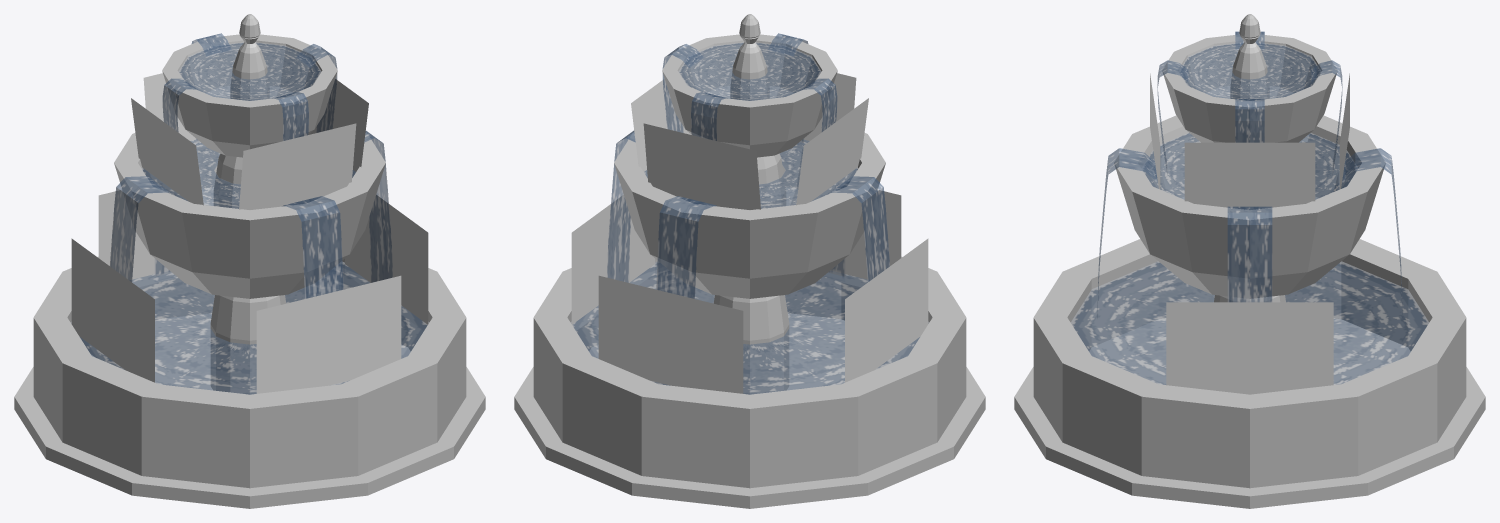
The model's file is fountain.fbx.
The picture shows the model from 3 angles, left to right: view 1: azimuth 30°, elevation 25°; view 2: azimuth 150°, elevation 25°; view 3: azimuth 270°, elevation 25°; orthographic projection.
Parts seen in each view (by area): view 1: 분수1단, 분수2단, 분수3단, water particles.002, 분수바닥, 분수 물, water particles.008, water particles.001, water particles.006, 분수 물3, 분수1단 기둥, water particles.005 (+13 smaller); view 2: 분수1단, 분수2단, 분수3단, water particles.007, 분수바닥, 분수 물, water particles.008, water particles.004, water particles.006, 분수 물3, 분수1단 기둥, water particles.005 (+13 smaller); view 3: 분수1단, 분수2단, 분수 물, water particles.006, 분수3단, 분수바닥, water particles.003, 분수 물3, Falling water.005, 분수 물2, 분수3단 기둥.002, Falling water.001 (+6 smaller).
Part boxes in pixels (left/top/right/bottom): 분수1단: left=33, top=256, right=466, bottom=488; 분수2단: left=114, top=133, right=385, bottom=298; 분수3단: left=162, top=34, right=337, bottom=157; water particles.002: left=256, top=275, right=401, bottom=393; 분수바닥: left=14, top=367, right=485, bottom=508; 분수 물: left=71, top=262, right=428, bottom=394; water particles.008: left=71, top=238, right=154, bottom=382; water particles.001: left=239, top=123, right=356, bottom=209; water particles.006: left=345, top=195, right=428, bottom=330; 분수 물3: left=178, top=42, right=321, bottom=100; 분수1단 기둥: left=210, top=295, right=286, bottom=394; water particles.005: left=131, top=98, right=203, bottom=205; 분수1단: left=533, top=256, right=966, bottom=488; 분수2단: left=614, top=133, right=885, bottom=298; 분수3단: left=662, top=34, right=837, bottom=157; water particles.007: left=598, top=275, right=743, bottom=393; 분수바닥: left=514, top=367, right=985, bottom=508; 분수 물: left=571, top=262, right=928, bottom=394; water particles.008: left=845, top=238, right=928, bottom=382; water particles.004: left=643, top=123, right=760, bottom=209; water particles.006: left=571, top=195, right=654, bottom=330; 분수 물3: left=678, top=42, right=821, bottom=100; 분수1단 기둥: left=713, top=295, right=789, bottom=394; water particles.005: left=796, top=98, right=868, bottom=205; 분수1단: left=1033, top=239, right=1466, bottom=488; 분수2단: left=1114, top=115, right=1385, bottom=298; 분수 물: left=1071, top=261, right=1428, bottom=384; water particles.006: left=1166, top=302, right=1333, bottom=394; 분수3단: left=1162, top=34, right=1337, bottom=142; 분수바닥: left=1014, top=367, right=1485, bottom=508; water particles.003: left=1184, top=142, right=1315, bottom=207; 분수 물3: left=1179, top=43, right=1320, bottom=100; Falling water.005: left=1227, top=206, right=1272, bottom=302; 분수 물2: left=1142, top=133, right=1357, bottom=199; 분수3단 기둥.002: left=1230, top=14, right=1269, bottom=99; Falling water.001: left=1235, top=99, right=1264, bottom=142.
Bounding box in the file's own units: 300 × 277 × 300.
